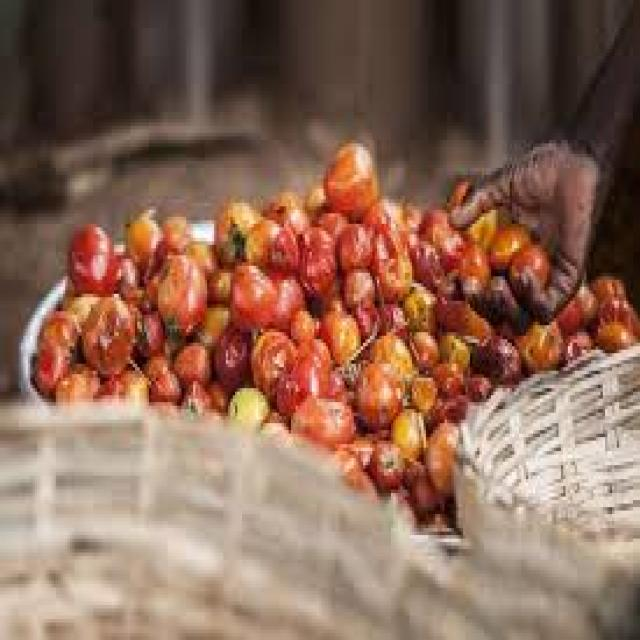food_waste: (316, 127, 400, 224), (50, 213, 124, 307), (349, 348, 412, 441), (250, 327, 299, 402), (508, 229, 551, 307)
